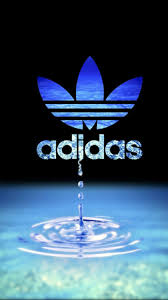adidas: (35, 56, 145, 160)
